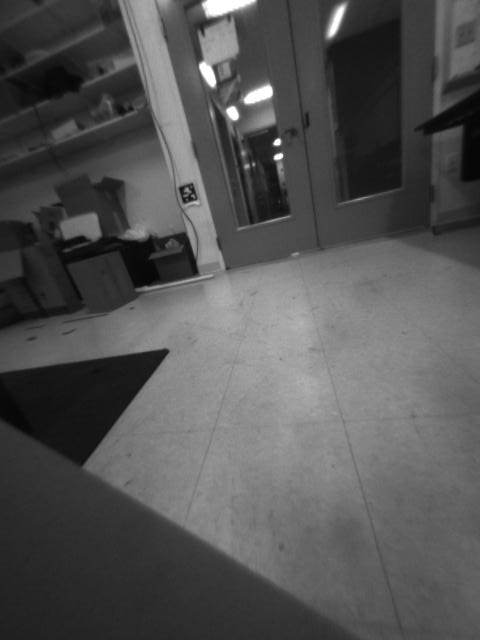door_handle: (273, 124, 302, 139)
